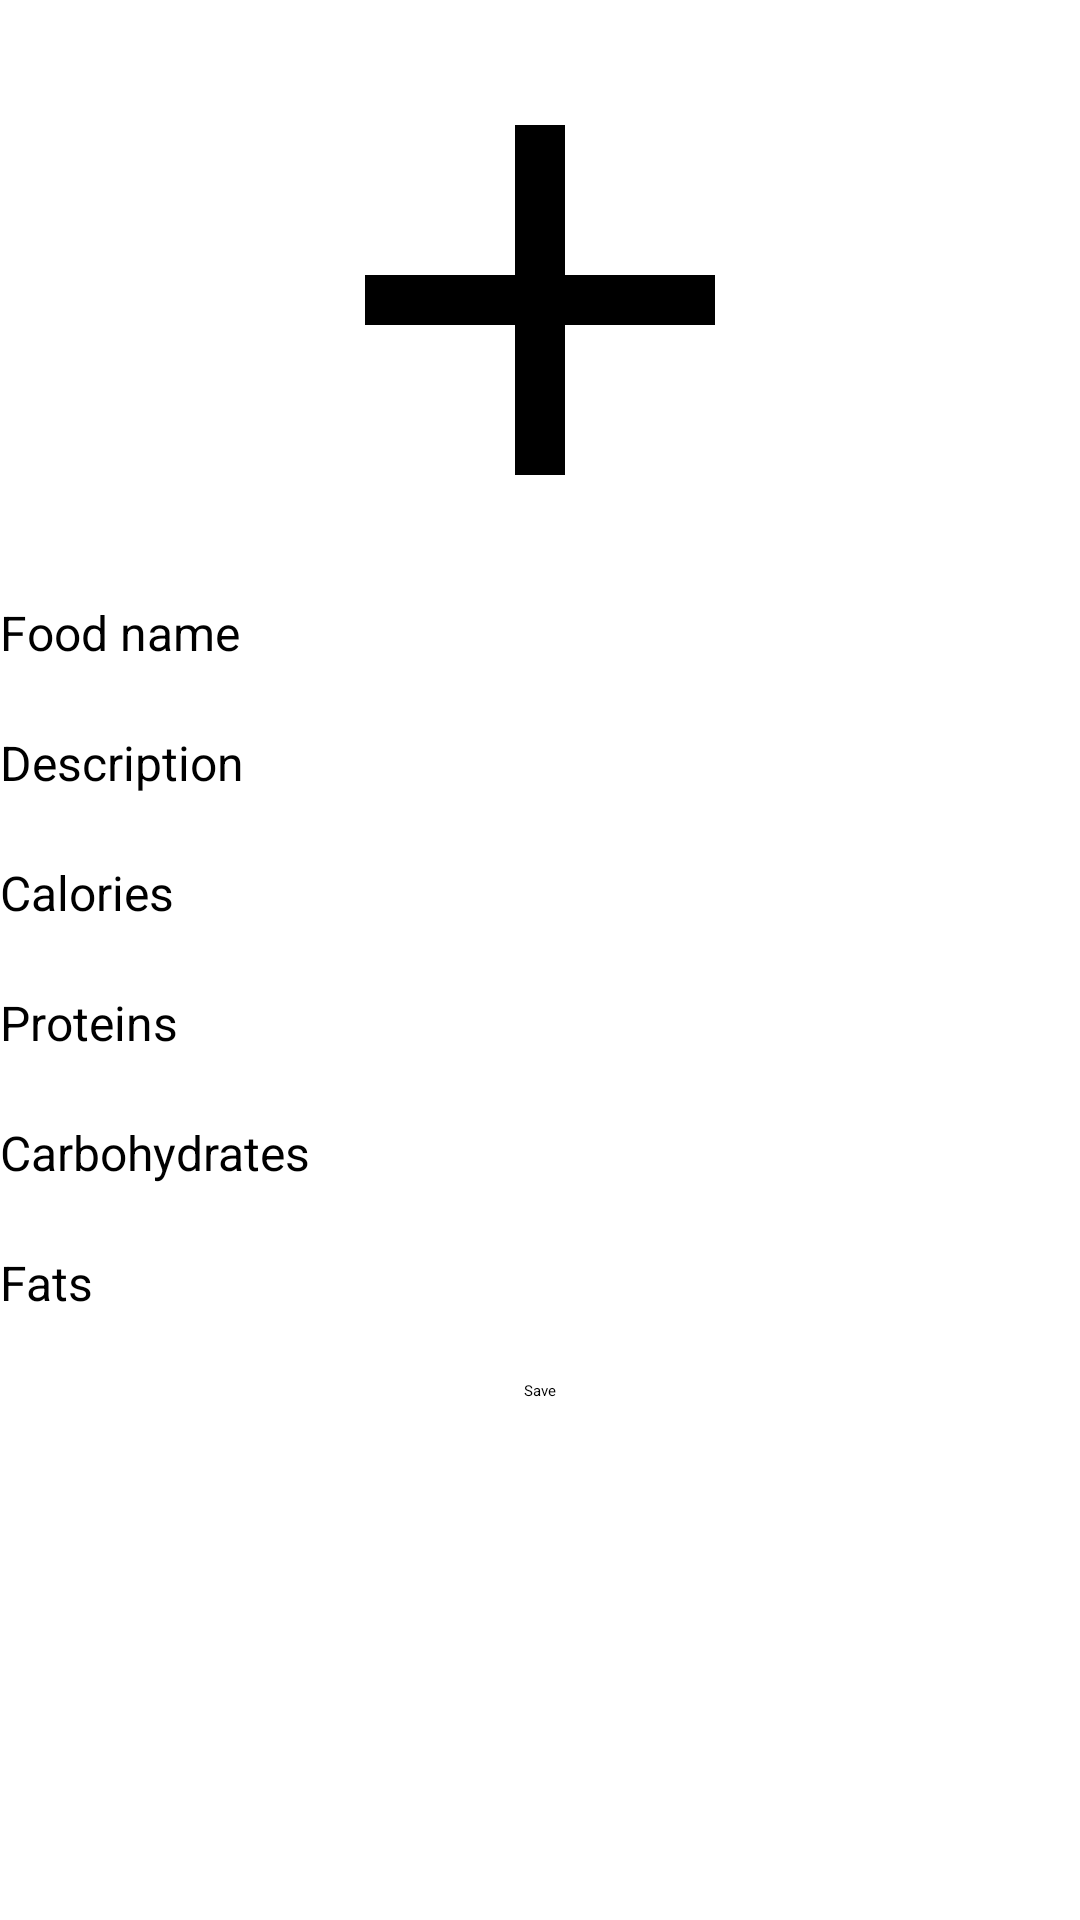

Named icons in this screenshot (1080px×1920px) and their bounding boxes, (x1=x1, y1=y1, x2=x2, y2=y2):
add: (x1=365, y1=125, x2=715, y2=475)
